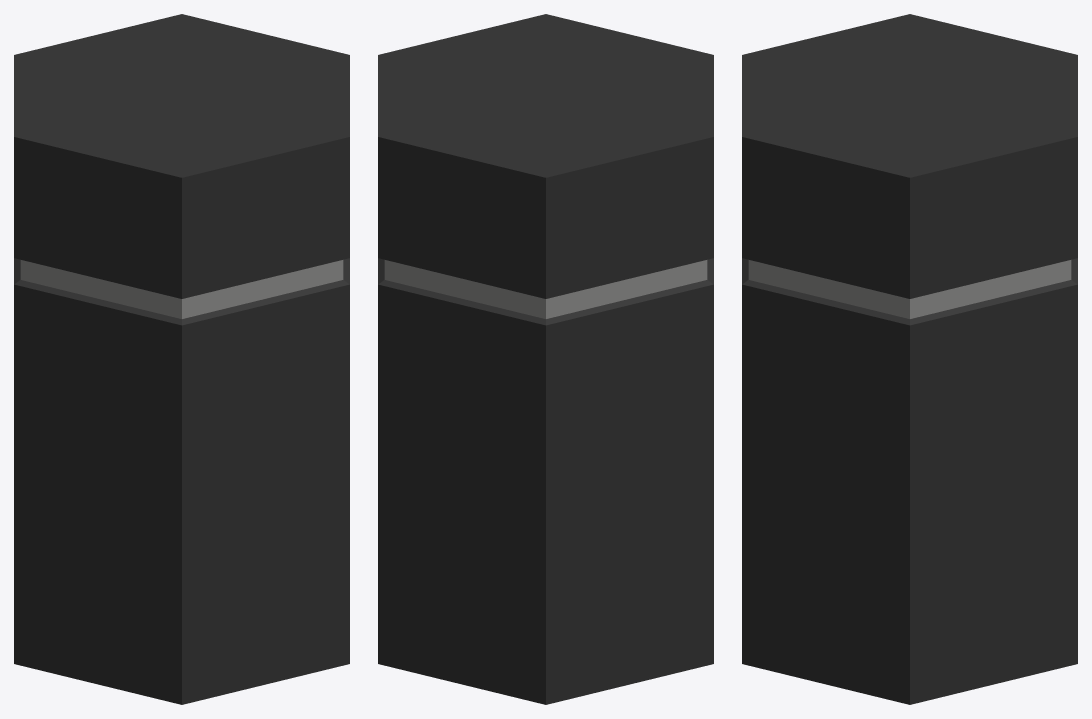
Rendered from SM_Props_Interior_Shop_Light_CeilingLight_09.fbx.
3 views of the same model, side by side, from view 1: azimuth 30°, elevation 25°; view 2: azimuth 150°, elevation 25°; view 3: azimuth 270°, elevation 25° (orthographic).
Parts seen in each view (by area): view 1: SM_Props_Interior_Shop_Light_CeilingLight_09; view 2: SM_Props_Interior_Shop_Light_CeilingLight_09; view 3: SM_Props_Interior_Shop_Light_CeilingLight_09.
Part boxes in pixels (left/top/right/bottom): SM_Props_Interior_Shop_Light_CeilingLight_09: left=14, top=14, right=349, bottom=704; SM_Props_Interior_Shop_Light_CeilingLight_09: left=378, top=14, right=713, bottom=704; SM_Props_Interior_Shop_Light_CeilingLight_09: left=742, top=14, right=1077, bottom=704.
Bounding box in the file's own units: 20 × 30 × 17.32.
